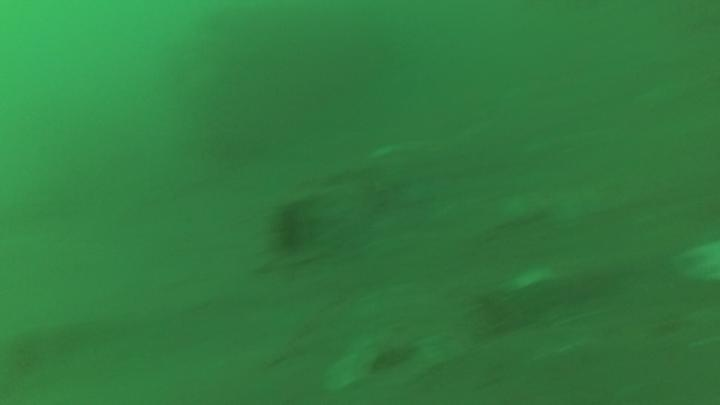echinus: (268, 196, 322, 259)
